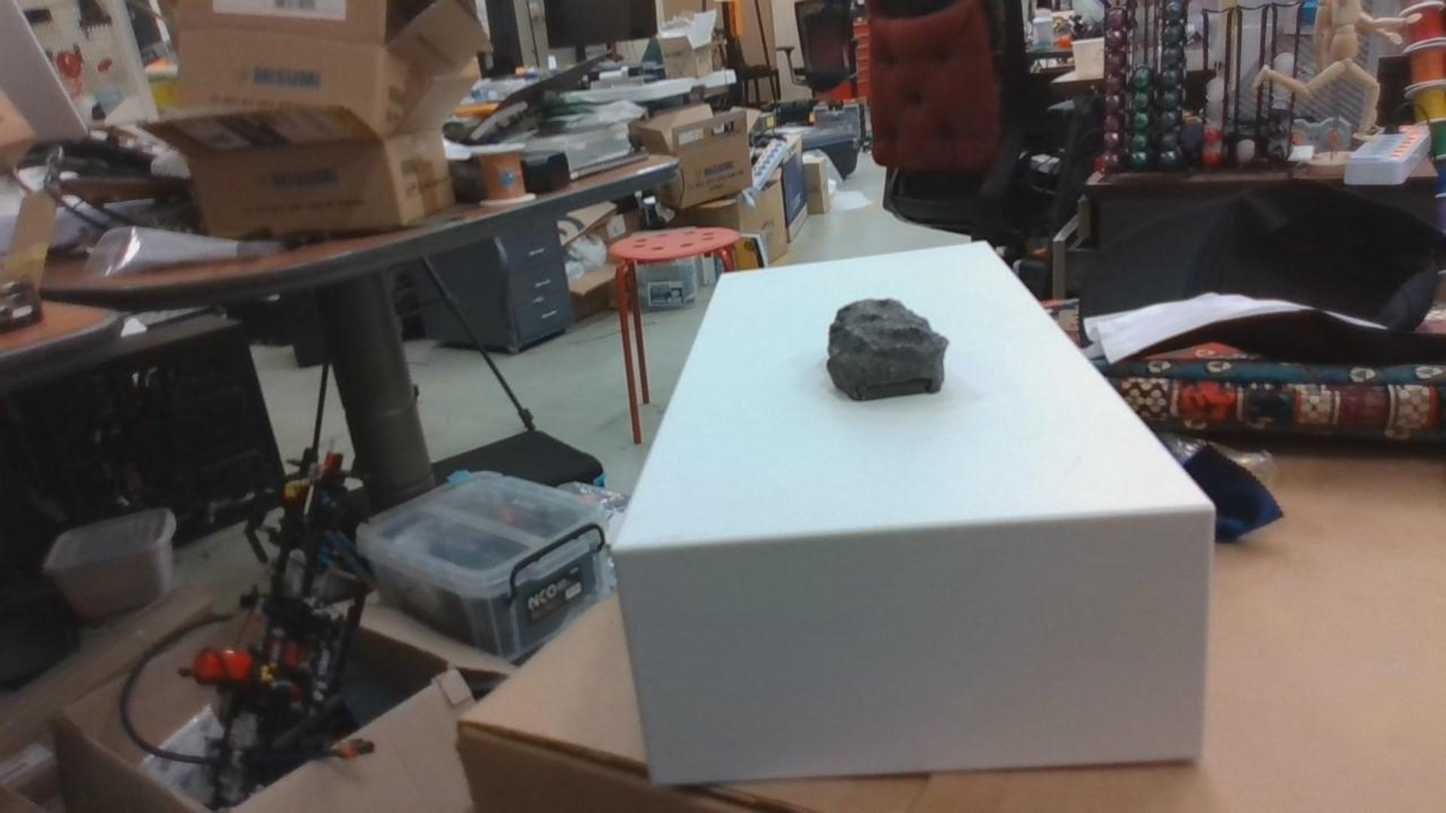rock: (827, 298, 948, 400)
